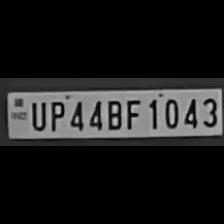0: (159, 96, 179, 128)
1: (142, 96, 160, 130)
3: (200, 94, 218, 128)
4: (66, 97, 86, 130), (85, 97, 103, 131), (180, 96, 198, 128)
B: (104, 96, 122, 130)
F: (124, 96, 142, 130)
P: (46, 97, 64, 130)
U: (28, 97, 46, 130)
